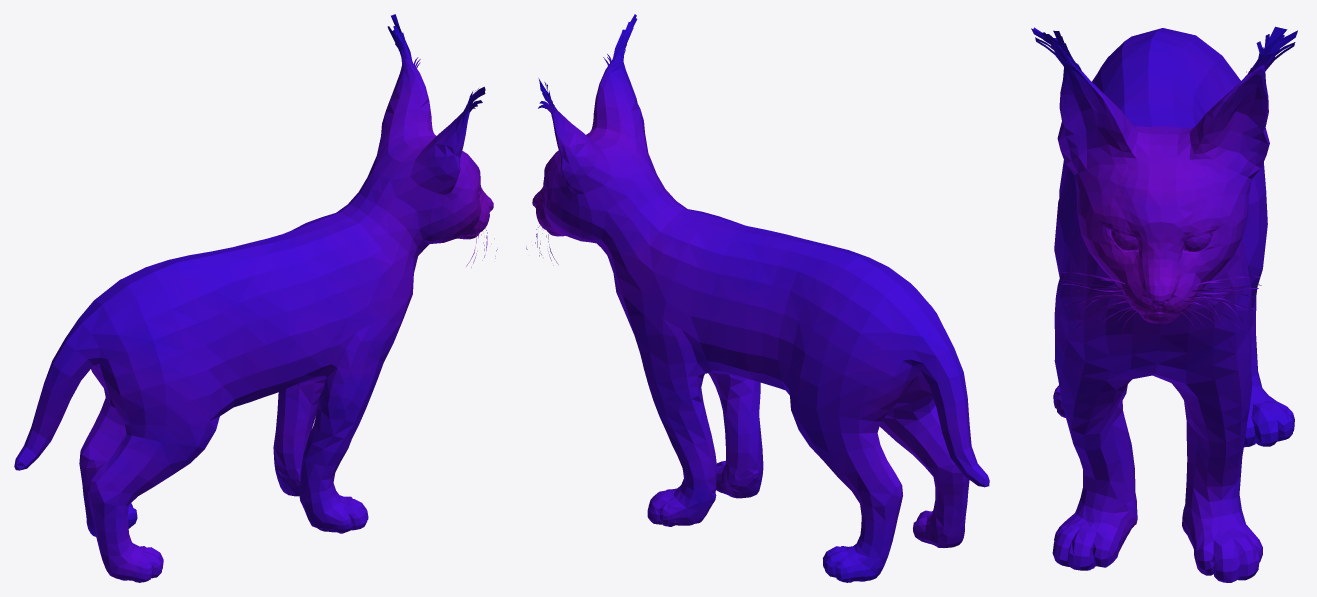
The model's file is caracal.pred.glb.
The picture shows the model from 3 angles, left to right: view 1: azimuth 30°, elevation 25°; view 2: azimuth 150°, elevation 25°; view 3: azimuth 270°, elevation 25°; orthographic projection. The views are drawn at different scales.
Size of the model in its own units: 0.551 by 0.4923 by 0.1979.
